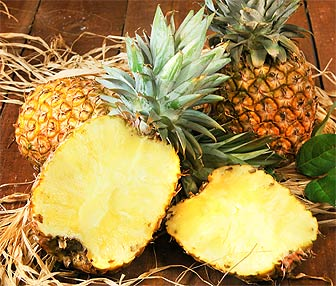pineapple: (48, 57, 174, 259), (200, 2, 319, 160), (181, 151, 308, 273), (18, 62, 109, 161)
